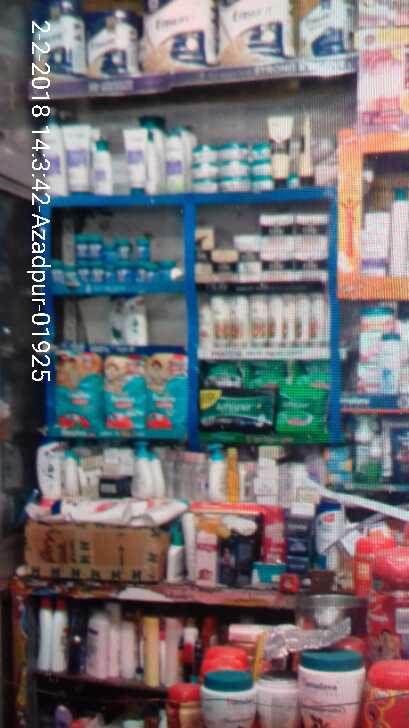vicks: (50, 230, 176, 292)
